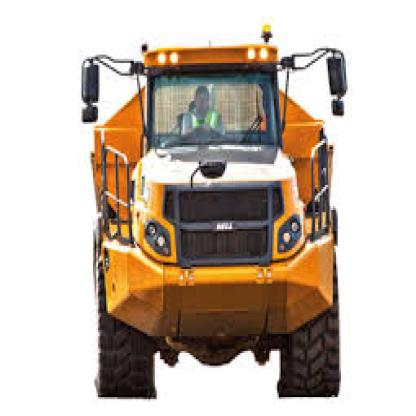dump_truck: (57, 23, 364, 408)
